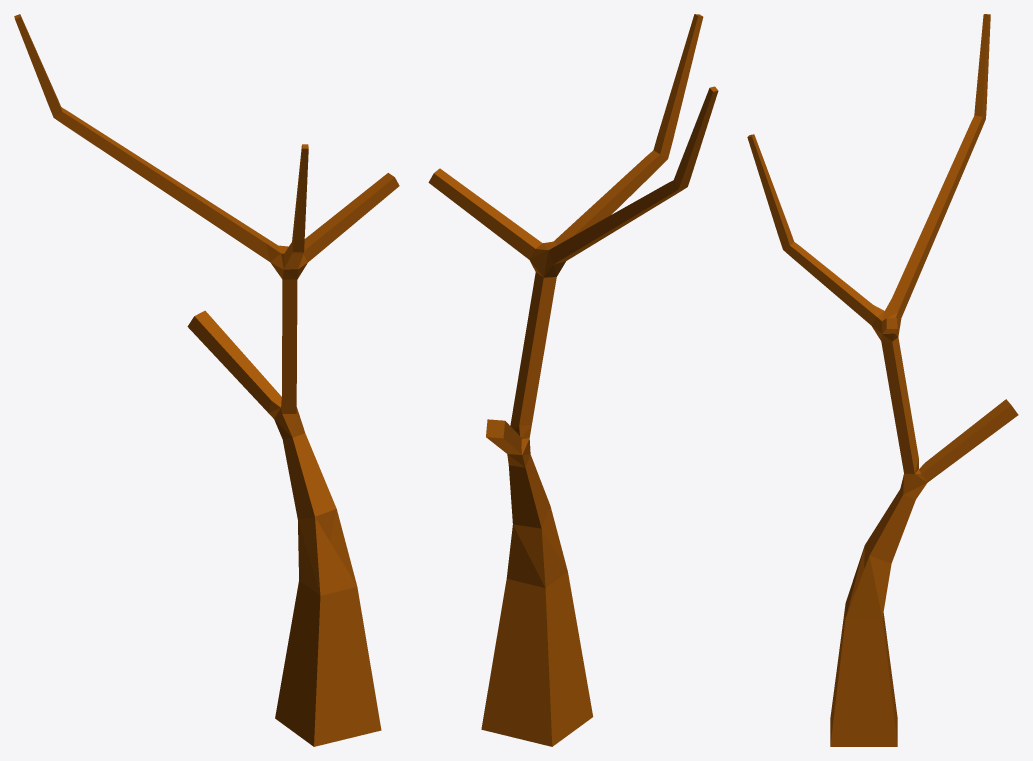
File: tree1 1.fbx
The picture shows the model from 3 angles, left to right: view 1: azimuth 30°, elevation 25°; view 2: azimuth 150°, elevation 25°; view 3: azimuth 270°, elevation 25°; orthographic projection. The views are drawn at different scales.
Parts seen in each view (by area): view 1: Cube; view 2: Cube; view 3: Cube.
Boxes of the visible parts, <box> form: Cube: <box>14,14,399,746</box>; Cube: <box>428,14,718,746</box>; Cube: <box>747,14,1018,746</box>.
Bounding box in the file's own units: 516 × 1078 × 429.
